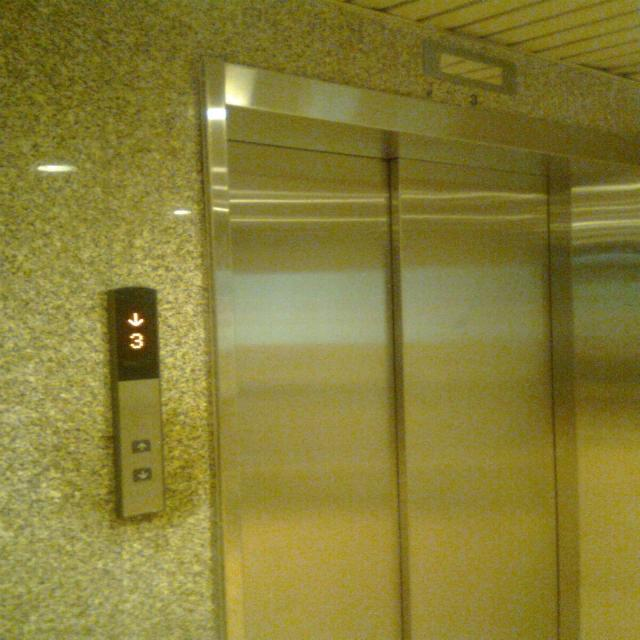down: (132, 468, 152, 480)
led: (106, 284, 162, 382)
up: (132, 440, 151, 452)
